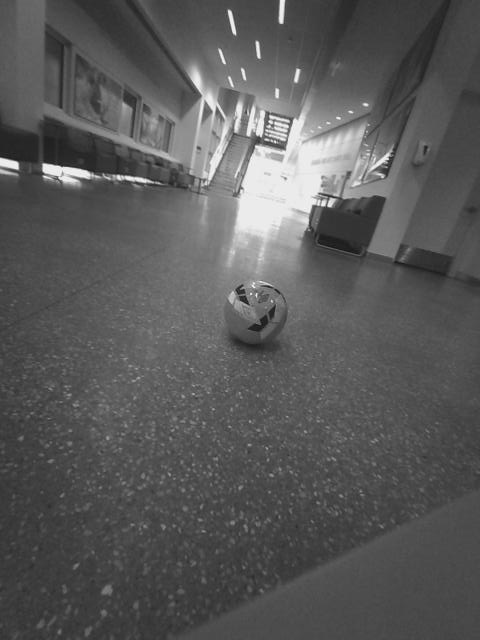ball: (162, 147, 212, 191)
